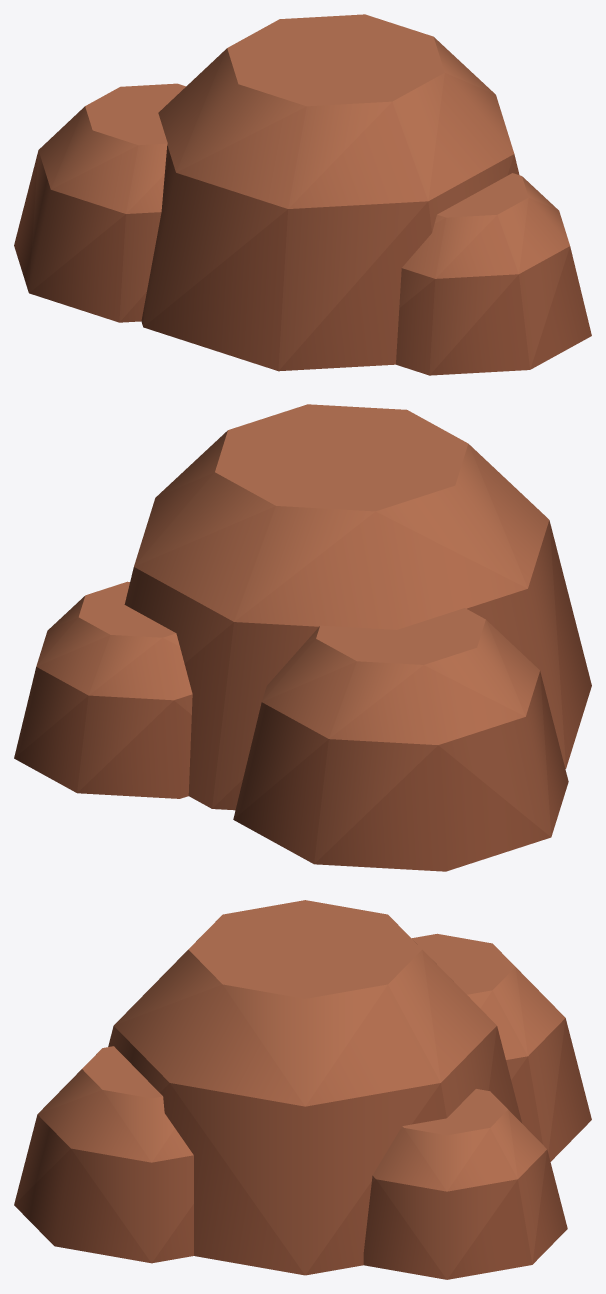
File: watercraft_cargo_pile_a.glb
3 views of the same model, one above another, from view 1: azimuth 30°, elevation 25°; view 2: azimuth 150°, elevation 25°; view 3: azimuth 270°, elevation 25° (orthographic). The views are drawn at different scales.
Visible parts, largest first — view 1: watercraft_cargo_pile_a; view 2: watercraft_cargo_pile_a; view 3: watercraft_cargo_pile_a.
Boxes of the visible parts, x1=… form: watercraft_cargo_pile_a: x1=14, y1=14, x2=591, y2=375; watercraft_cargo_pile_a: x1=14, y1=404, x2=591, y2=871; watercraft_cargo_pile_a: x1=14, y1=900, x2=591, y2=1279.
Size of the model in its own units: 2.54 by 1.2 by 2.75.
